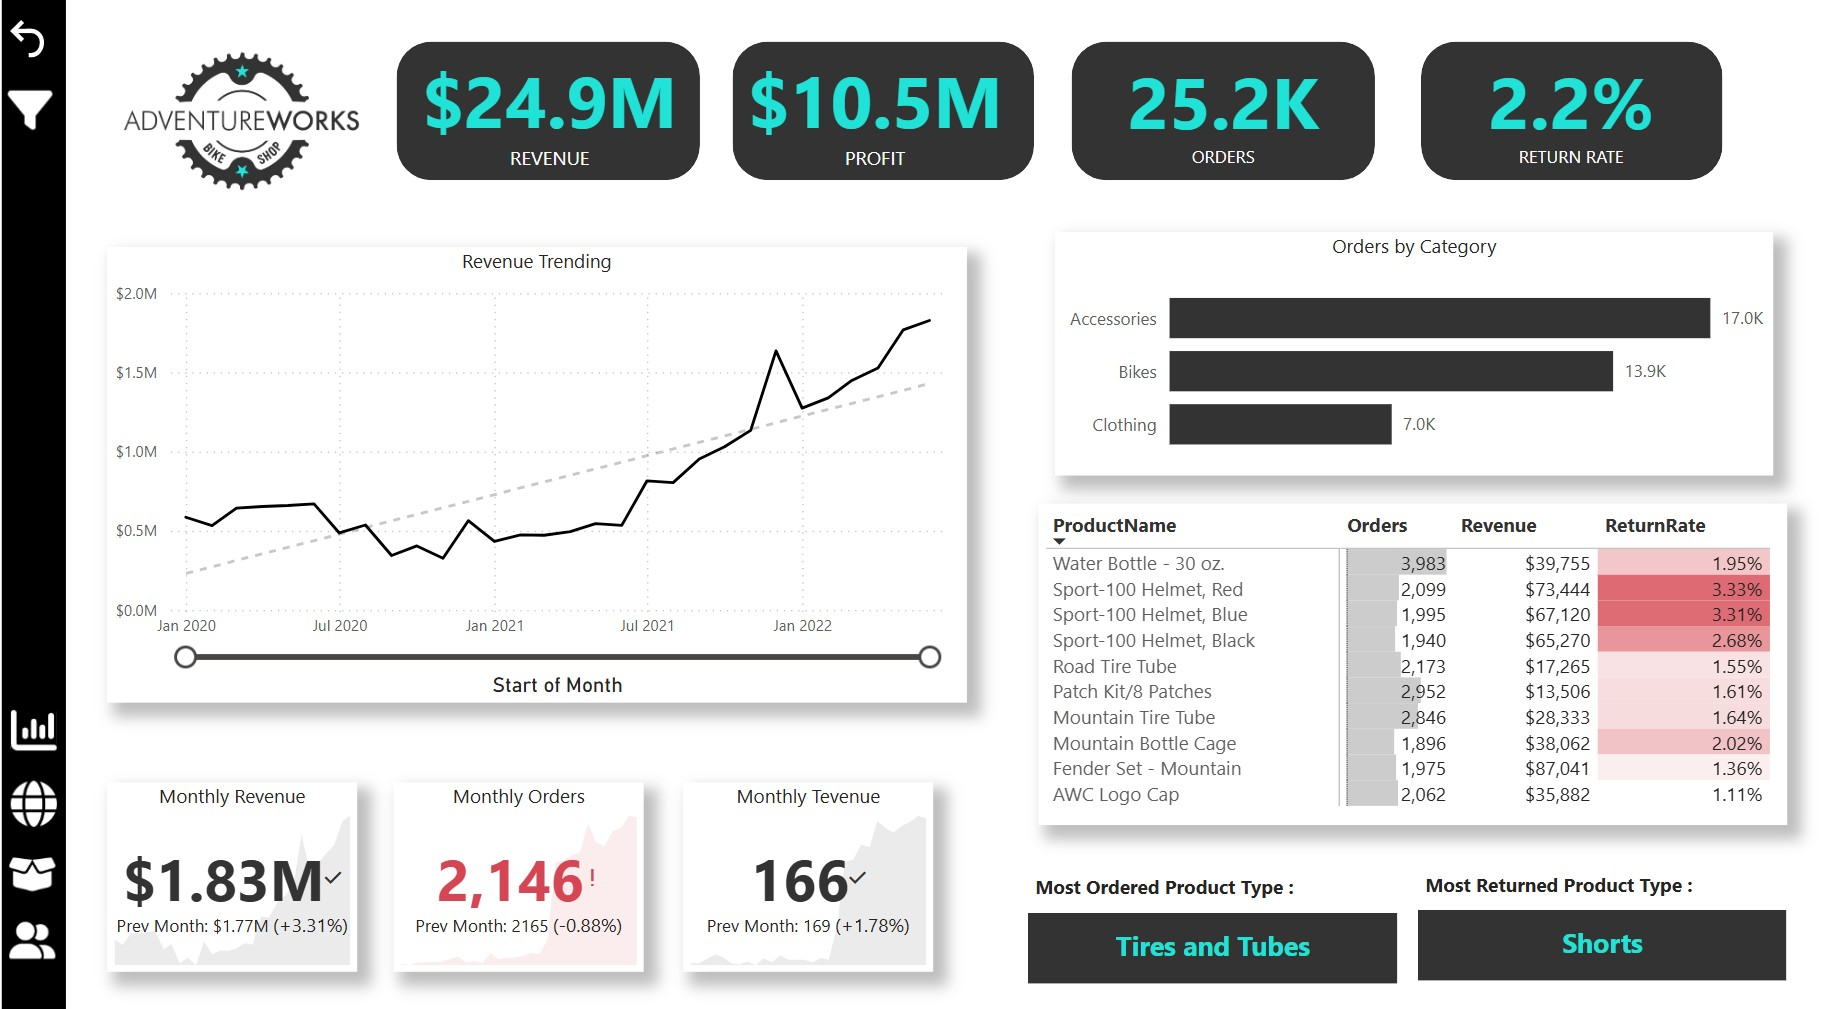

Layout of this report page (visuals, bound fields, positions):
{"tool":"powerbi","page":{"name":"Exec Dashboard","canvas":[1280,720],"ordinal":0},"visuals":[{"type":"card","fields":{"Values":["Measure Table.Total Revenue"]},"box":[283.8,5.2,199.5,146],"z":0,"group":"g2"},{"type":"image","title":"AW Logo","box":[61.7,21,212.4,130.9],"z":0},{"type":"group","id":"g1","title":"KPI backgrpunds","box":[276.5,30.2,930,97.3],"z":0,"group":"g3"},{"type":"shape","box":[276.5,30.2,212.8,97.3],"z":0,"group":"g1"},{"type":"actionButton","box":[2.6,493.5,82.2,40.4],"z":0,"group":"g4"},{"type":"shape","title":"Left nav background","box":[0,0,44.9,720.7],"z":1000},{"type":"group","id":"g2","title":"KPI Values","box":[283.8,5.2,915.5,146],"z":1000,"group":"g3"},{"type":"card","fields":{"Values":["Measure Table.Total Profit"]},"box":[512.4,5.2,199.5,146],"z":1000,"group":"g2"},{"type":"shape","box":[512.3,30.2,211.6,97.3],"z":1000,"group":"g1"},{"type":"actionButton","box":[2.5,545.2,82.2,40.4],"z":1000,"group":"g4"},{"type":"group","id":"g3","title":"Group 1","box":[276.5,5.2,930,146],"z":2000},{"type":"card","fields":{"Values":["Measure Table.Total Orders"]},"box":[755.5,5.2,199.5,146],"z":2000,"group":"g2"},{"type":"shape","box":[994.9,30.2,211.6,97.3],"z":2000,"group":"g1"},{"type":"actionButton","box":[1,594.5,100.2,40.4],"z":2000,"group":"g4"},{"type":"card","fields":{"Values":["Measure Table.ReturnRate"]},"box":[999.7,5.2,199.5,146],"z":3000,"group":"g2"},{"type":"shape","box":[749.4,30.2,212.8,97.3],"z":3000,"group":"g1"},{"type":"lineChart","title":"Revenue Trending","fields":{"Y":["Measure Table.Total Revenue"],"Category":["Calendar Lookup.Year","Calendar Lookup.Start of Quarter","Calendar Lookup.Start of Month","Calendar Lookup.Start of Week"]},"box":[73.2,174.4,602.6,319.6],"z":3000},{"type":"actionButton","box":[1,640.9,100.2,40.4],"z":3000,"group":"g4"},{"type":"kpi","title":"Monthly Revenue","fields":{"Indicator":["Measure Table.Total Revenue"],"TrendLine":["Calendar Lookup.Start of Month"],"Goal":["Measure Table.Previous Month Revenue"]},"box":[73.2,550.1,175.7,133],"z":4000},{"type":"kpi","title":"Monthly Orders","fields":{"TrendLine":["Calendar Lookup.Start of Month"],"Indicator":["Measure Table.Total Orders"],"Goal":["Measure Table.Previous Month Orders"]},"box":[274.5,550.1,175.7,133],"z":5000},{"type":"kpi","title":"Monthly Tevenue","fields":{"TrendLine":["Calendar Lookup.Start of Month"],"Indicator":["Measure Table.Total Returns"],"Goal":["Measure Table.Previous Month Returns"]},"box":[477,550.1,175.7,133],"z":6000},{"type":"clusteredBarChart","title":"Orders by Category","fields":{"Category":["Product Categories Lookup.CategoryName"],"Y":["Measure Table.Total Orders"]},"box":[738.1,164,503.7,170.3],"z":7000},{"type":"pivotTable","fields":{"Rows":["Product Lookup.ProductName"],"Values":["Measure Table.Total Orders","Measure Table.Total Revenue","Measure Table.ReturnRate"]},"box":[726.6,354.3,524.7,225],"z":8000},{"type":"card","fields":{"Values":["Min(Product Subcategories Lookup.SubcategoryName)"]},"box":[719,640.8,258.7,49.3],"z":9000},{"type":"textbox","box":[719,608,213.8,32.9],"z":10000},{"type":"card","fields":{"Values":["Min(Product Subcategories Lookup.SubcategoryName)"]},"box":[992.6,639.4,258,49.3],"z":11000},{"type":"textbox","box":[992.6,606.5,216.8,32.9],"z":12000},{"type":"actionButton","box":[0,10.5,45.2,35.8],"z":13000},{"type":"group","id":"g4","title":"Navigation Buttons","box":[1,493.5,100.2,187.7],"z":14000},{"type":"actionButton","box":[0,59.3,44.5,39.5],"z":15000}]}

Visuals, with their boxes on the page's 1280x720 design canvas (x1, y1, x2, y2). These are canvas units, not pixel positions in the 1827x1009 screenshot, which may show the page scaled, cropped or inside an application window:
card - Measure Table.Total Revenue: {"left": 284, "top": 5, "right": 483, "bottom": 151}
"AW Logo" image: {"left": 62, "top": 21, "right": 274, "bottom": 152}
"KPI backgrpunds" group: {"left": 276, "top": 30, "right": 1206, "bottom": 128}
shape: {"left": 276, "top": 30, "right": 489, "bottom": 128}
actionButton: {"left": 3, "top": 494, "right": 85, "bottom": 534}
"Left nav background" shape: {"left": 0, "top": 0, "right": 45, "bottom": 721}
"KPI Values" group: {"left": 284, "top": 5, "right": 1199, "bottom": 151}
card - Measure Table.Total Profit: {"left": 512, "top": 5, "right": 712, "bottom": 151}
shape: {"left": 512, "top": 30, "right": 724, "bottom": 128}
actionButton: {"left": 2, "top": 545, "right": 85, "bottom": 586}
"Group 1" group: {"left": 276, "top": 5, "right": 1206, "bottom": 151}
card - Measure Table.Total Orders: {"left": 756, "top": 5, "right": 955, "bottom": 151}
shape: {"left": 995, "top": 30, "right": 1206, "bottom": 128}
actionButton: {"left": 1, "top": 594, "right": 101, "bottom": 635}
card - Measure Table.ReturnRate: {"left": 1000, "top": 5, "right": 1199, "bottom": 151}
shape: {"left": 749, "top": 30, "right": 962, "bottom": 128}
"Revenue Trending" lineChart: {"left": 73, "top": 174, "right": 676, "bottom": 494}
actionButton: {"left": 1, "top": 641, "right": 101, "bottom": 681}
"Monthly Revenue" kpi: {"left": 73, "top": 550, "right": 249, "bottom": 683}
"Monthly Orders" kpi: {"left": 274, "top": 550, "right": 450, "bottom": 683}
"Monthly Tevenue" kpi: {"left": 477, "top": 550, "right": 653, "bottom": 683}
"Orders by Category" clusteredBarChart: {"left": 738, "top": 164, "right": 1242, "bottom": 334}
pivotTable - Product Lookup.ProductName x Measure Table.Total Orders: {"left": 727, "top": 354, "right": 1251, "bottom": 579}
card - Min(Product Subcategories Lookup.SubcategoryName): {"left": 719, "top": 641, "right": 978, "bottom": 690}
textbox: {"left": 719, "top": 608, "right": 933, "bottom": 641}
card - Min(Product Subcategories Lookup.SubcategoryName): {"left": 993, "top": 639, "right": 1251, "bottom": 689}
textbox: {"left": 993, "top": 606, "right": 1209, "bottom": 639}
actionButton: {"left": 0, "top": 10, "right": 45, "bottom": 46}
"Navigation Buttons" group: {"left": 1, "top": 494, "right": 101, "bottom": 681}
actionButton: {"left": 0, "top": 59, "right": 44, "bottom": 99}
